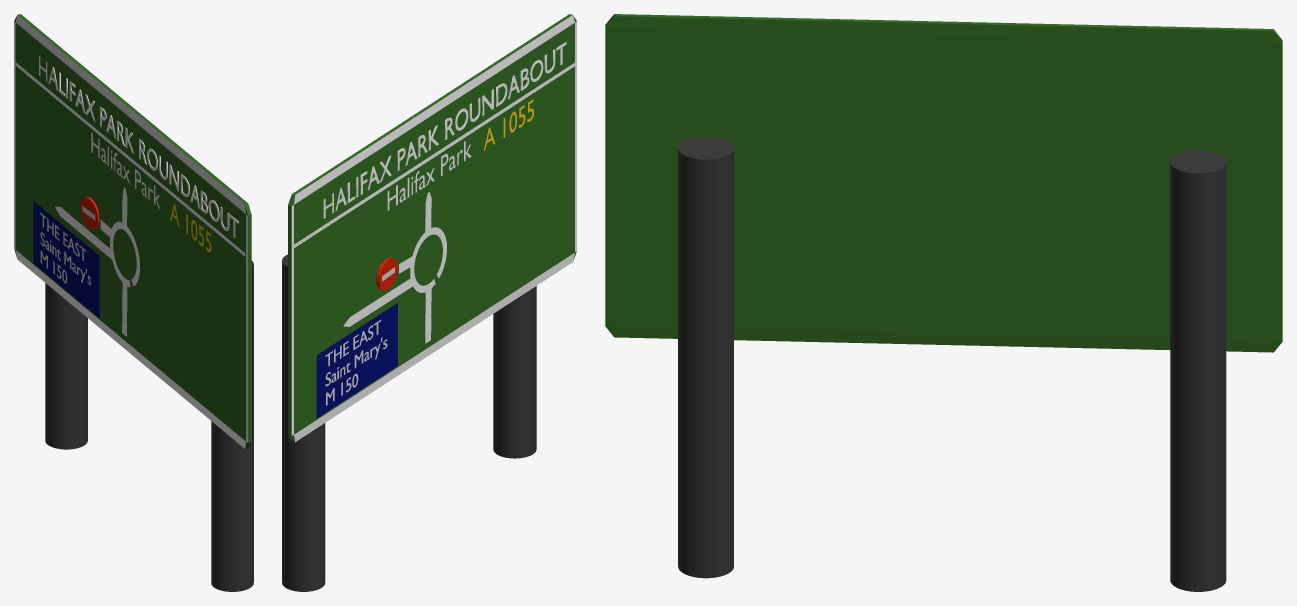
Rendered from RoundaboutSignHalifaxPark3.fbx.
3 renders of one model, left to right at view 1: azimuth 30°, elevation 25°; view 2: azimuth 150°, elevation 25°; view 3: azimuth 270°, elevation 25°, orthographic. The views are drawn at different scales.
Visible parts, largest first — view 1: Cube.030, Cylinder.001, Cylinder.002, Cube.001, STMRoundabout, DashedLine, Motorway, STMRoundabout.001, RoundelM, RightArrowM, Cylinder, STMRoundabout.002; view 2: Cube.030, Cylinder.002, Cylinder.001, Cube.001, STMRoundabout, DashedLine, Motorway, RoundelM, STMRoundabout.001, RightArrowM, Cylinder, STMRoundabout.002; view 3: Cube.030, Cylinder.002, Cylinder.001.
Part boxes in pixels (box(x1,y1,x2,y2)): Cube.030: box(14, 14, 251, 448); Cylinder.001: box(211, 260, 253, 591); Cylinder.002: box(45, 283, 87, 449); Cube.001: box(33, 201, 99, 317); STMRoundabout: box(39, 56, 238, 237); DashedLine: box(14, 61, 245, 256); Motorway: box(40, 212, 90, 285); STMRoundabout.001: box(91, 132, 159, 208); RoundelM: box(109, 221, 139, 287); RightArrowM: box(55, 206, 111, 259); Cylinder: box(80, 196, 99, 229); STMRoundabout.002: box(170, 204, 211, 252); Cube.030: box(288, 14, 576, 442); Cylinder.002: box(282, 254, 325, 591); Cylinder.001: box(493, 286, 536, 458); Cube.001: box(316, 303, 397, 418); STMRoundabout: box(323, 41, 566, 218); DashedLine: box(294, 62, 575, 247); Motorway: box(325, 320, 387, 405); RoundelM: box(410, 227, 446, 292); STMRoundabout.001: box(387, 141, 471, 210); RightArrowM: box(343, 276, 414, 326); Cylinder: box(376, 257, 397, 290); STMRoundabout.002: box(484, 99, 533, 150); Cube.030: box(605, 14, 1282, 352); Cylinder.002: box(1170, 149, 1226, 591); Cylinder.001: box(678, 137, 733, 578).
Size of the model in its own units: 109 by 670 by 765.
